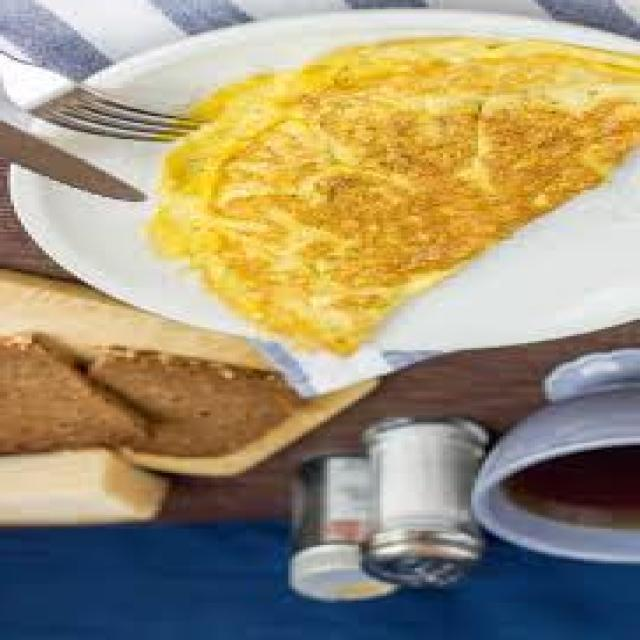telur_ayam_dadar: (148, 38, 640, 362)
